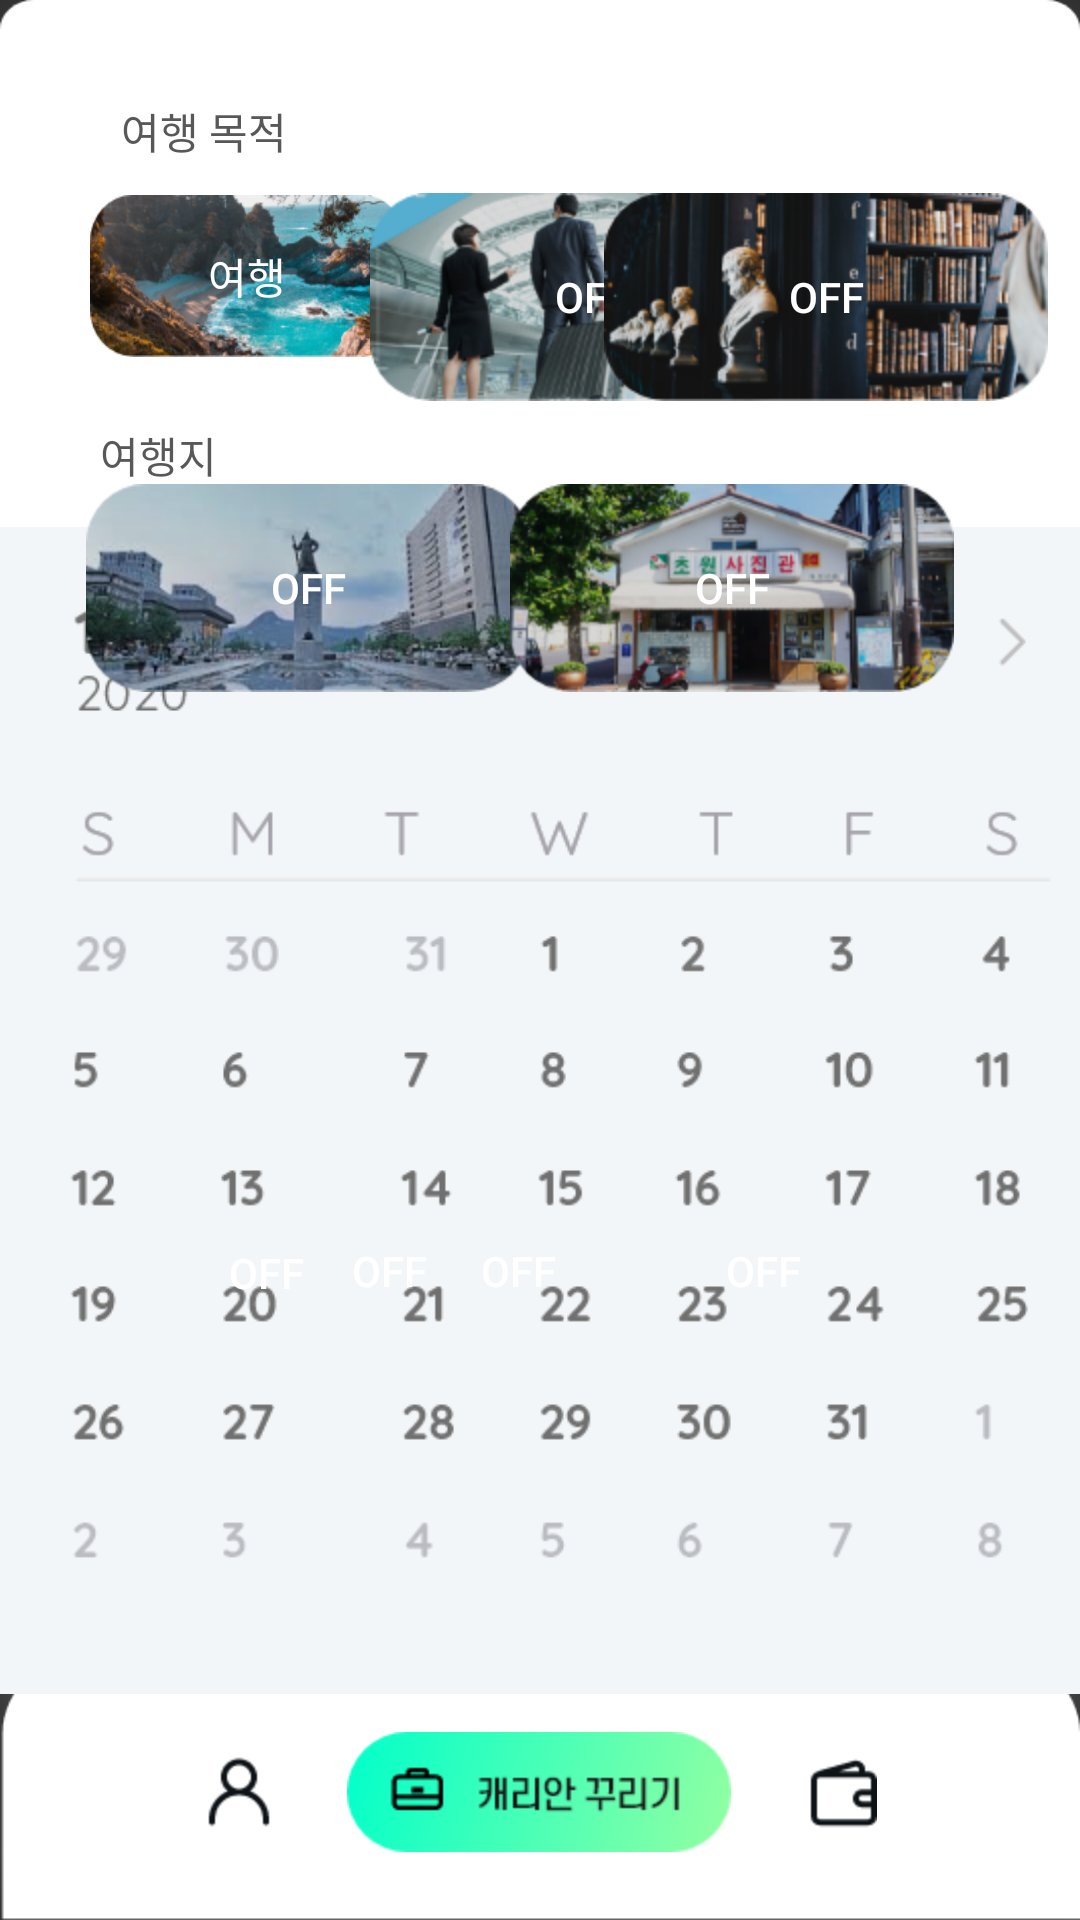

Where icons sit on this 1080×1920 app screen, as (x1, y1, x2, y2):
wallet: (810, 1759, 877, 1827)
